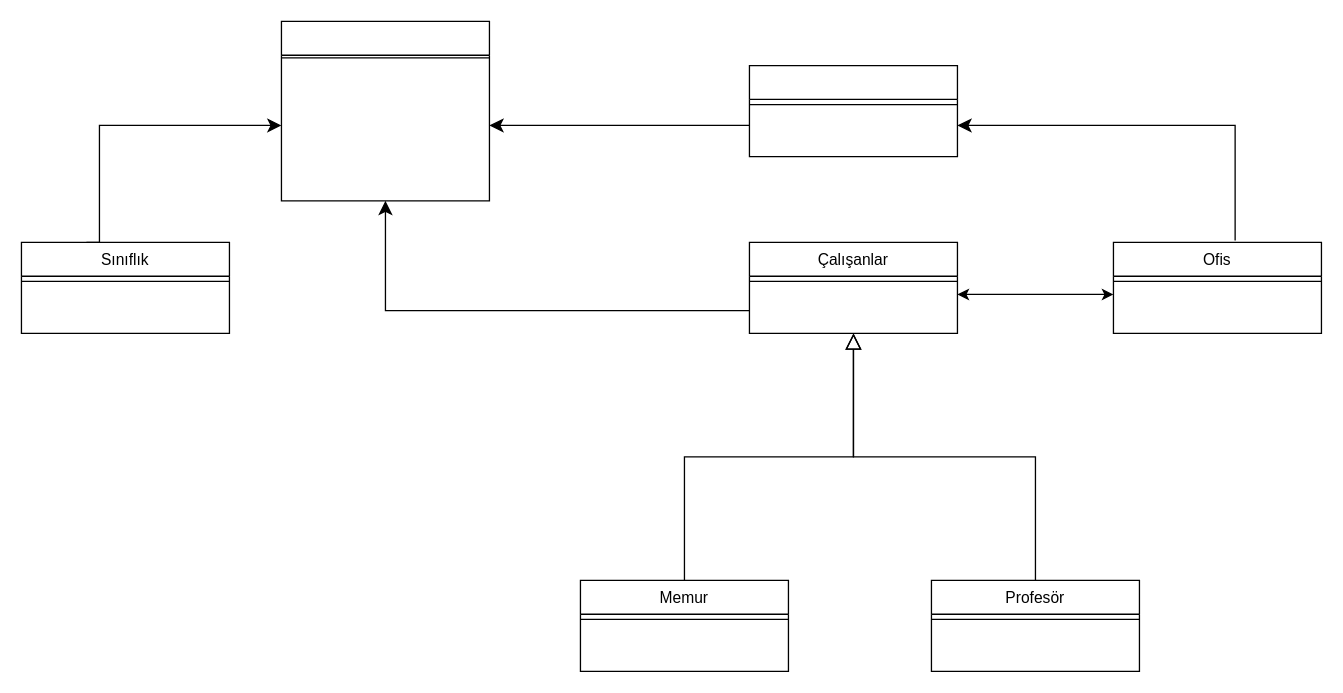
Some shapes in this 1343 by 693 pixel diagram are drawn without their labels. Here are the shapes that lost their labels. From the top down, the centre of each, then its label:
At (384,110): "Üniversite".
At (852,110): "Departman".
